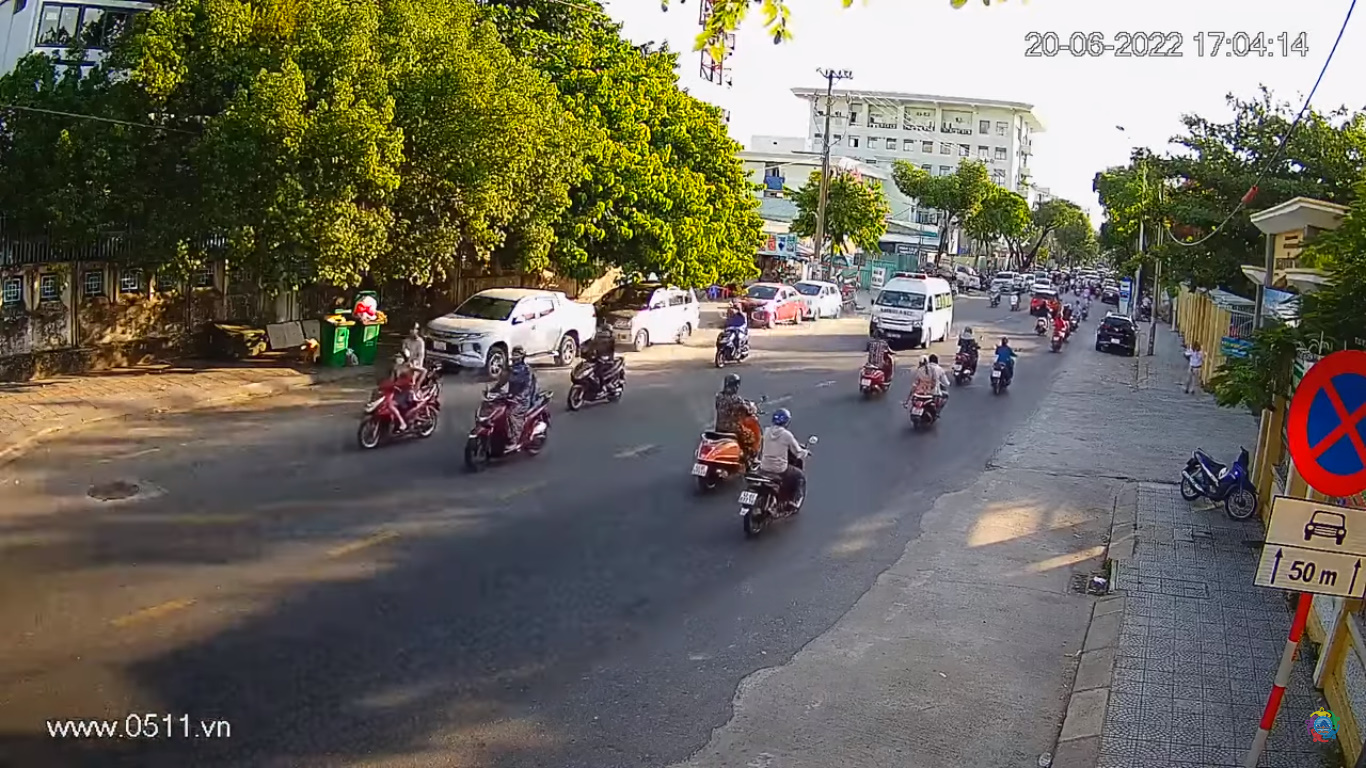car: (870, 272, 957, 349)
